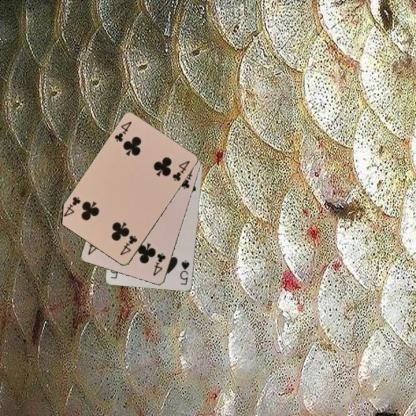4c: (117, 233, 139, 257), (112, 119, 134, 143), (150, 250, 167, 278)
5s: (177, 258, 191, 286)
